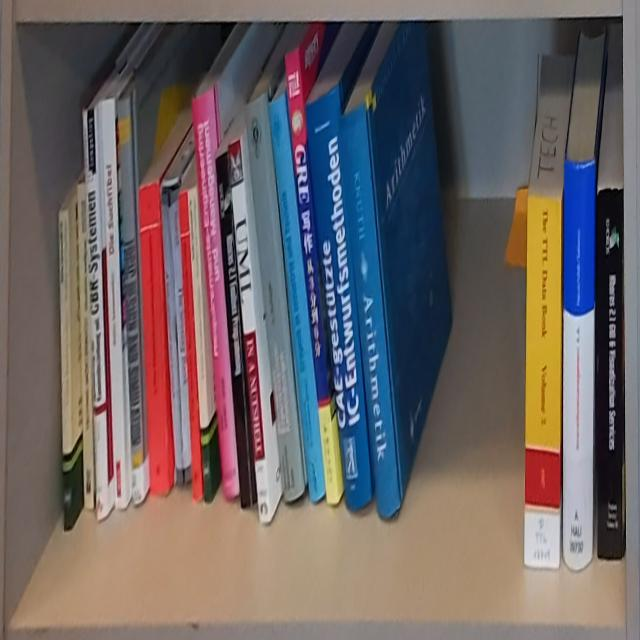Book Spine: (307, 82, 372, 511), (340, 101, 400, 518), (285, 48, 338, 505), (245, 93, 304, 501), (268, 94, 326, 505), (192, 86, 240, 500), (230, 137, 271, 524), (217, 152, 258, 508), (524, 196, 561, 570), (564, 158, 593, 570), (117, 91, 145, 505), (82, 106, 109, 523), (101, 98, 128, 511), (597, 187, 624, 560), (140, 179, 170, 498), (162, 186, 192, 484), (188, 188, 212, 503), (179, 193, 203, 502), (78, 182, 94, 511), (60, 211, 73, 531)
